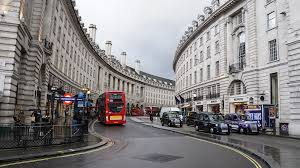London Underground: (59, 92, 73, 106)
